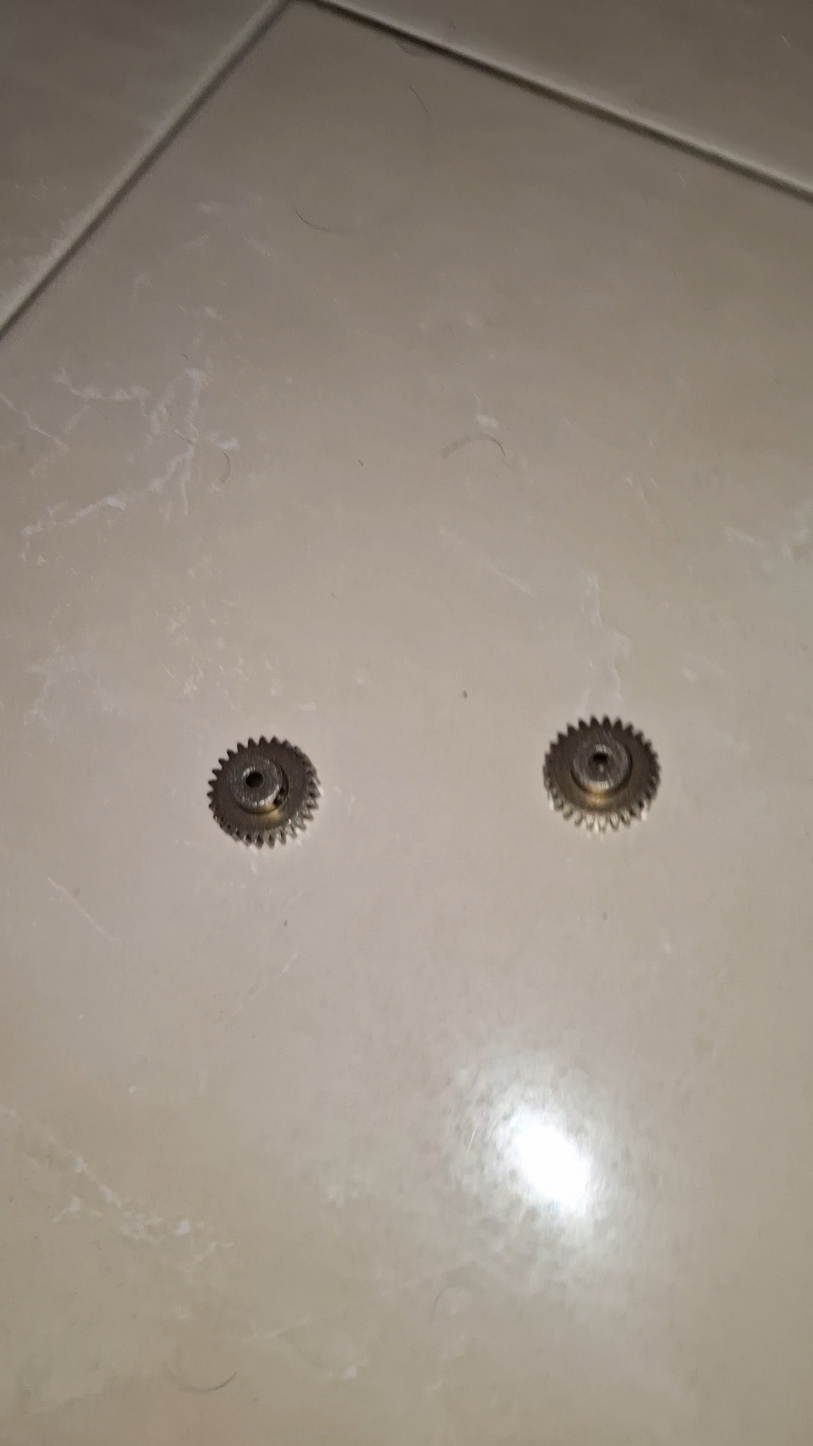spur gear: (544, 717, 659, 830), (209, 738, 319, 845)
